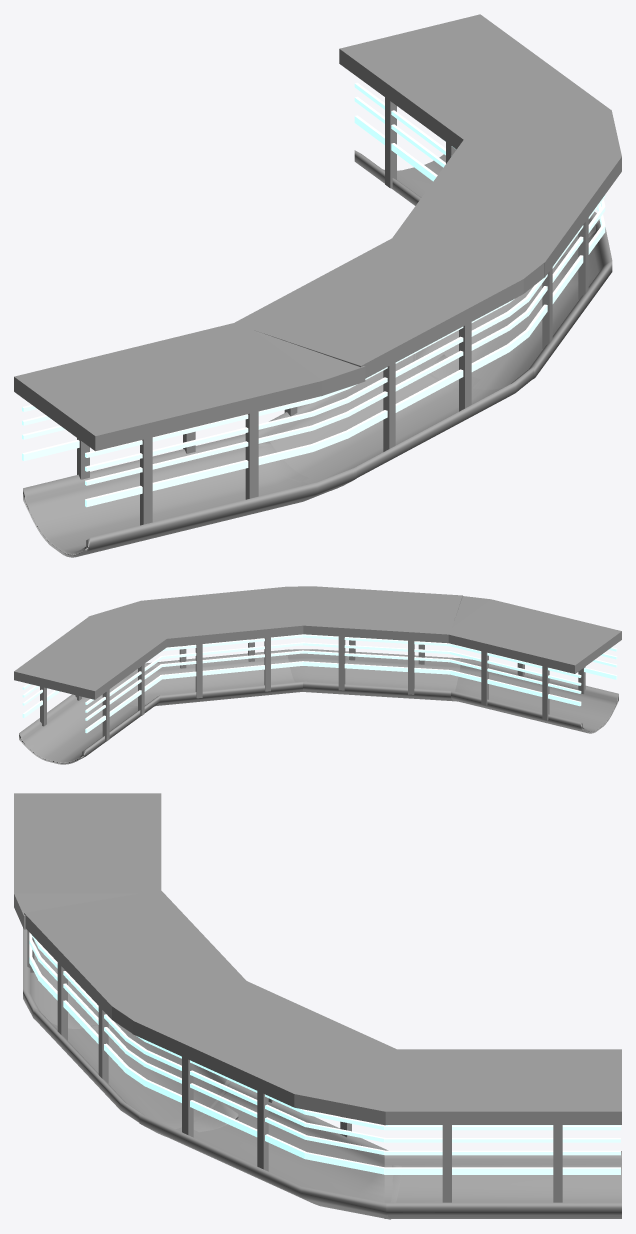
The model's file is PuenteSS.fbx.
3 renders of one model, top to bottom at view 1: azimuth 30°, elevation 25°; view 2: azimuth 150°, elevation 25°; view 3: azimuth 270°, elevation 25°, orthographic. The views are drawn at different scales.
Visible parts, largest first — view 1: PuenteSS, PuenteSSLuces; view 2: PuenteSS, PuenteSSLuces; view 3: PuenteSS, PuenteSSLuces.
Part boxes in pixels (x1,y1,x2,y2): PuenteSS: (14,14,621,557); PuenteSSLuces: (22,82,605,507); PuenteSS: (14,586,621,764); PuenteSSLuces: (22,634,617,733); PuenteSS: (14,793,621,1219); PuenteSSLuces: (29,932,620,1174).
Bounding box in the file's own units: 596 × 112 × 480.
